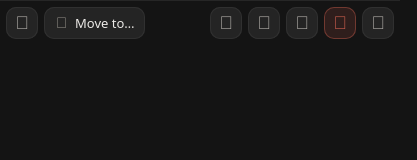
Test: favourite reports itself, and says so without a hue
The image size is (417, 160).
Click the button named "Favourite".
click(22, 22)  # box [6,6,38,38]
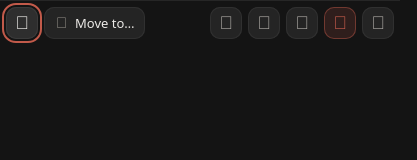
Expected: the text "" is shown, [15,12,29,32]
